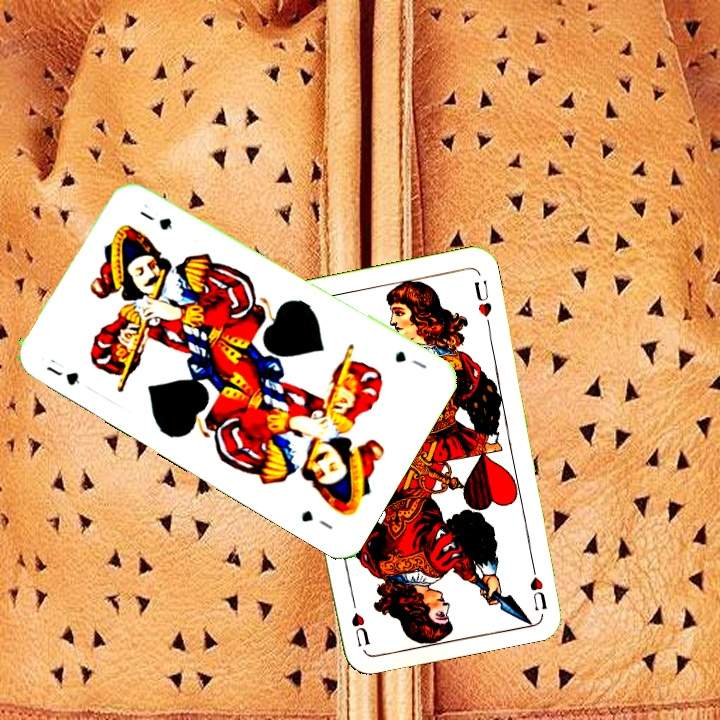GU: (42, 362, 83, 389), (390, 346, 429, 372)
HU: (526, 555, 549, 614)
